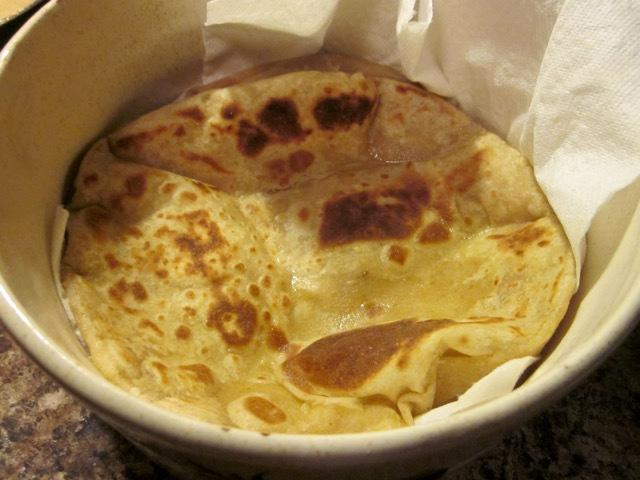chapati: (62, 71, 576, 432)
